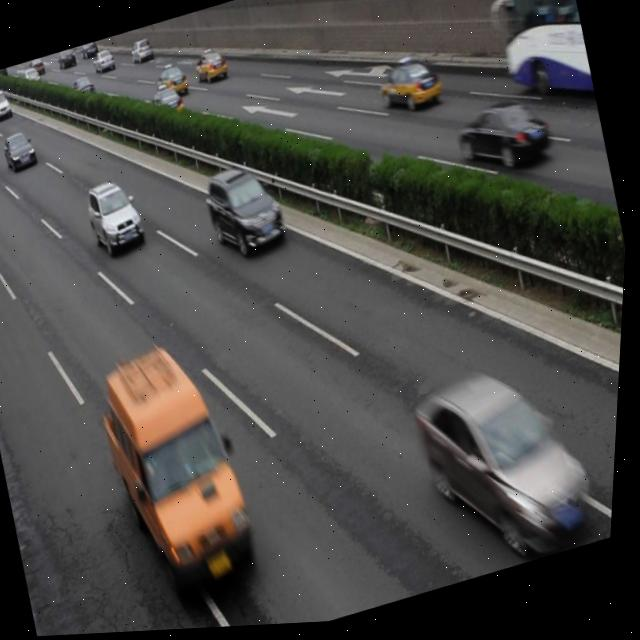car: (407, 354, 611, 587), (200, 159, 294, 268), (453, 97, 557, 185), (81, 174, 151, 257), (373, 54, 444, 122), (1, 128, 42, 174), (191, 46, 230, 90), (151, 61, 191, 103), (147, 80, 187, 122), (69, 73, 99, 106), (128, 39, 155, 68), (91, 49, 118, 77)
truck: (88, 334, 274, 607), (0, 85, 16, 124)
van: (476, 0, 602, 129)
